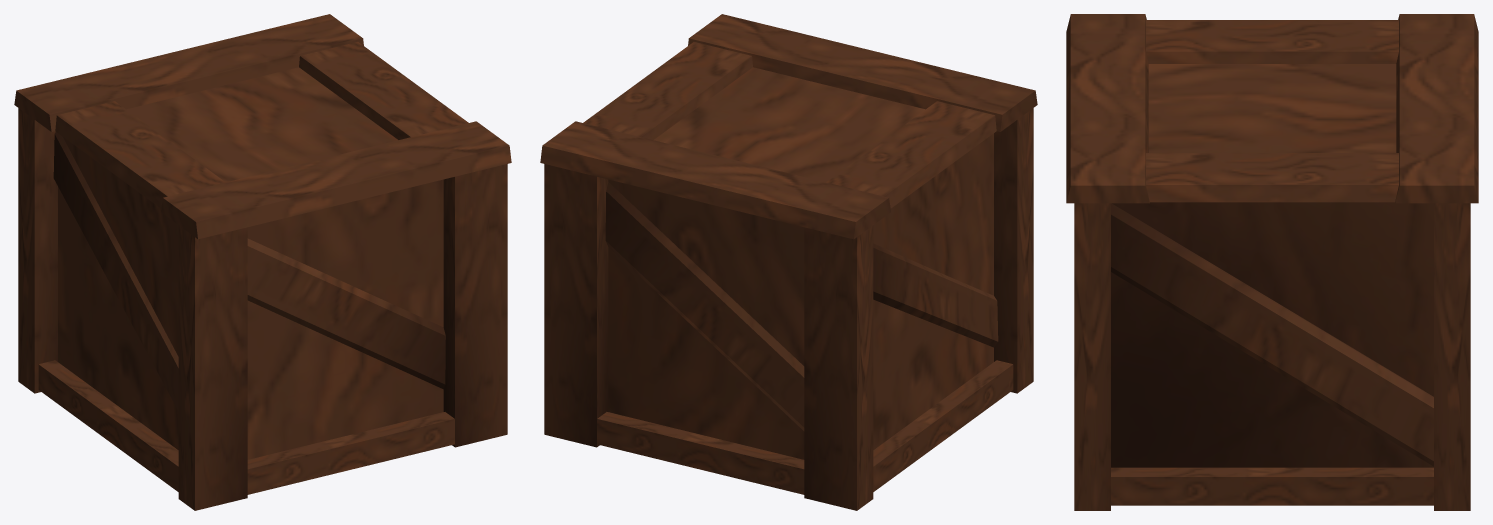
Rendered from Caixa_1.glb.
3 views of the same model, side by side, from view 1: azimuth 30°, elevation 25°; view 2: azimuth 150°, elevation 25°; view 3: azimuth 270°, elevation 25° (orthographic). The views are drawn at different scales.
Parts seen in each view (by area): view 1: Caixa.1; view 2: Caixa.1; view 3: Caixa.1.
Part boxes in pixels (x1=…): Caixa.1: x1=14, y1=14, x2=511, y2=510; Caixa.1: x1=540, y1=14, x2=1037, y2=510; Caixa.1: x1=1066, y1=14, x2=1478, y2=510.
Bounding box in the file's own units: 0.964 × 0.8524 × 0.9783.
1 material, 1 textured.
